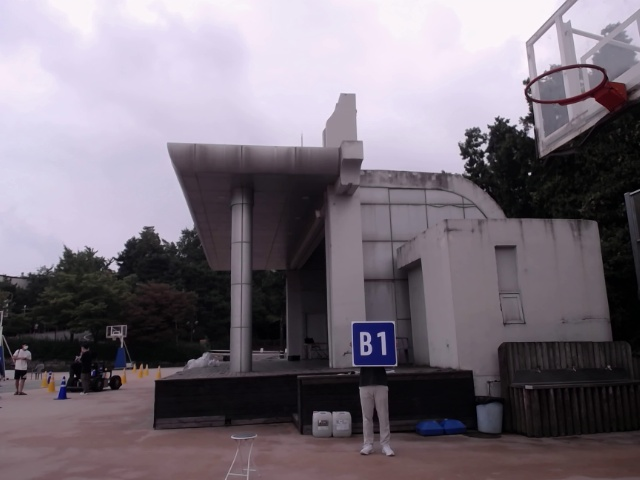delivery_b1: (351, 321, 397, 366)
